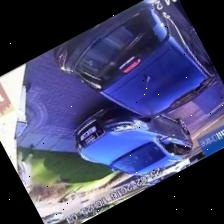person: (17, 152, 32, 193)
